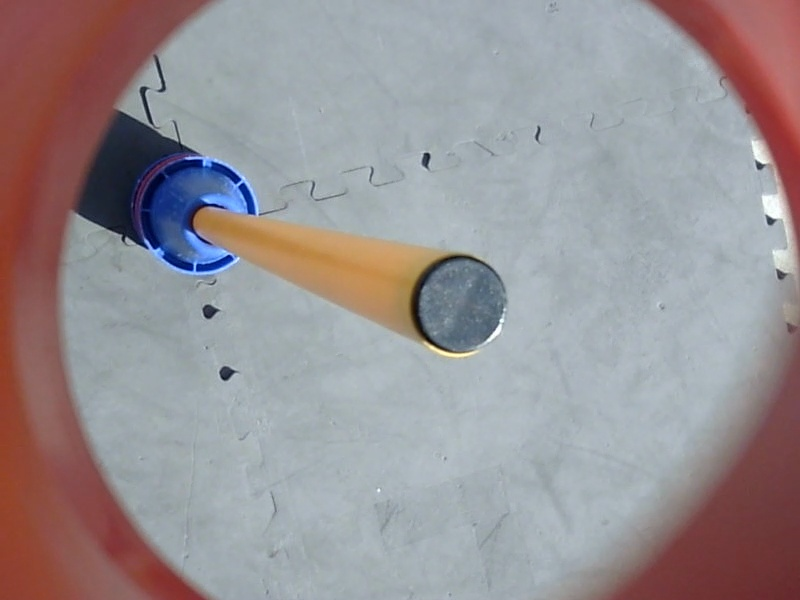tip: (405, 245, 516, 360)
